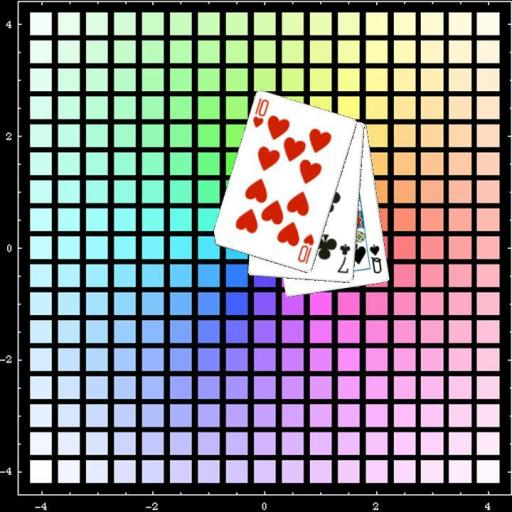10H: (294, 231, 316, 266), (250, 95, 271, 130)
7C: (334, 241, 352, 275)
QS: (367, 241, 383, 275)
